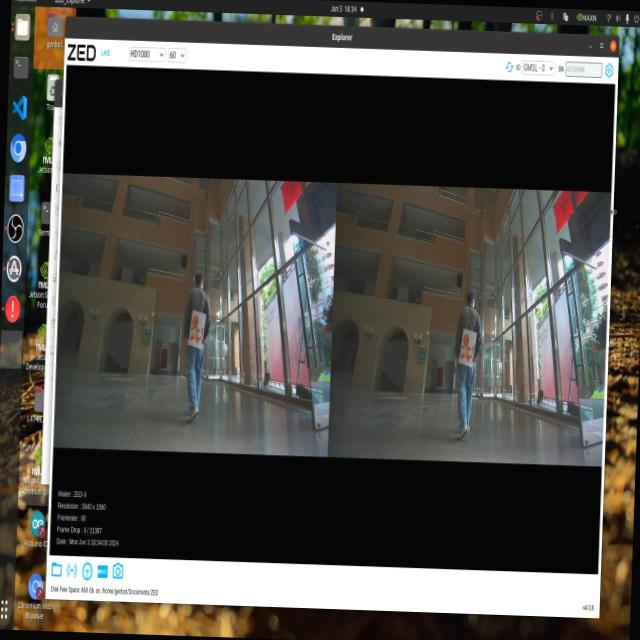red: (459, 326, 477, 373), (190, 312, 206, 351)
